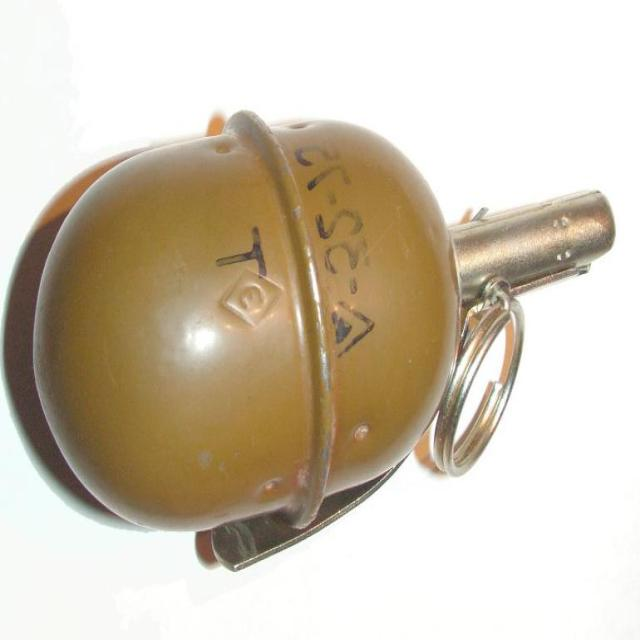grenade: (33, 107, 617, 571)
